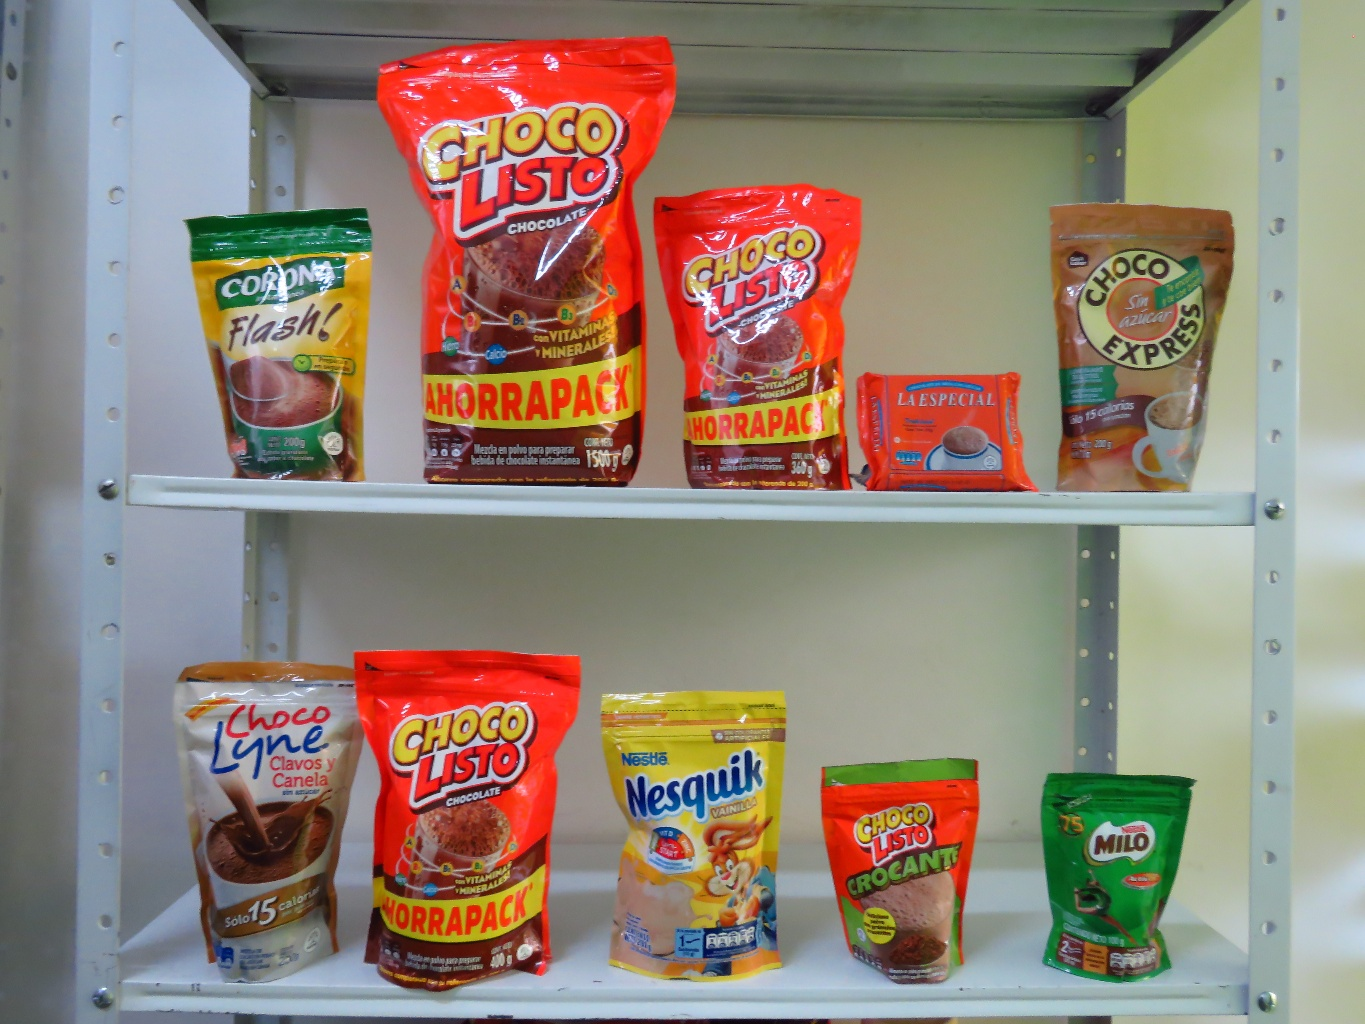COL0170102DYP10000: (817, 762, 981, 985)
COL0170103DYP1,500: (367, 32, 666, 487)
COL0170103DYP36000: (650, 188, 868, 489)
COL0170103DYP40000: (351, 648, 586, 993)
COL0170203DYP10000: (1044, 772, 1193, 981)
COL0170306DYP20000: (602, 692, 786, 981)
